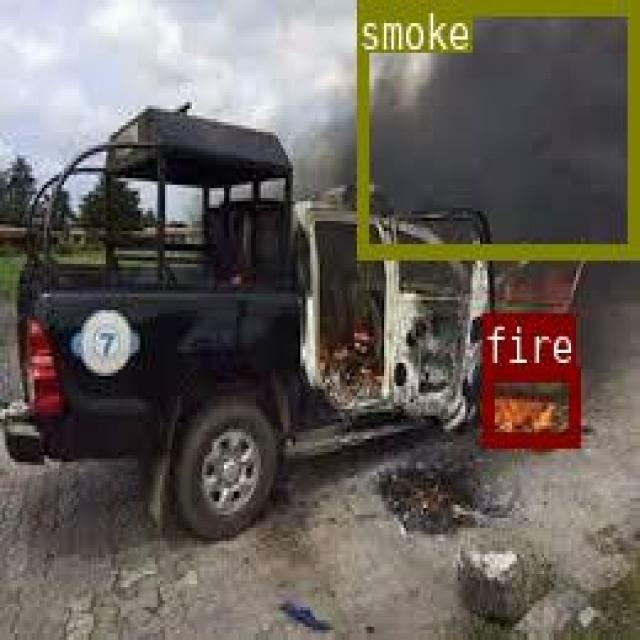fire: (482, 364, 577, 443)
smoke: (355, 0, 635, 254)
